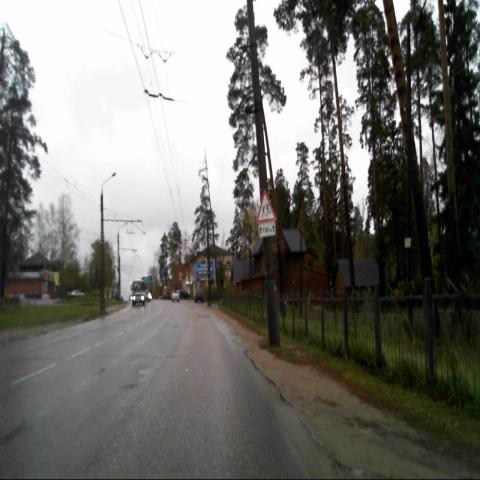8_2_1: (258, 222, 276, 236)
